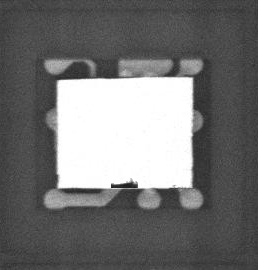DIE_BROKEN: (109, 176, 139, 190)
